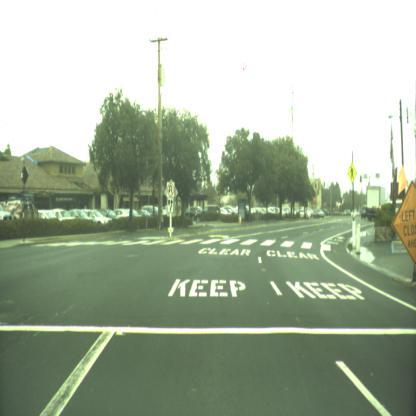Red: (340, 197, 342, 203)
off: (360, 175, 362, 182)
